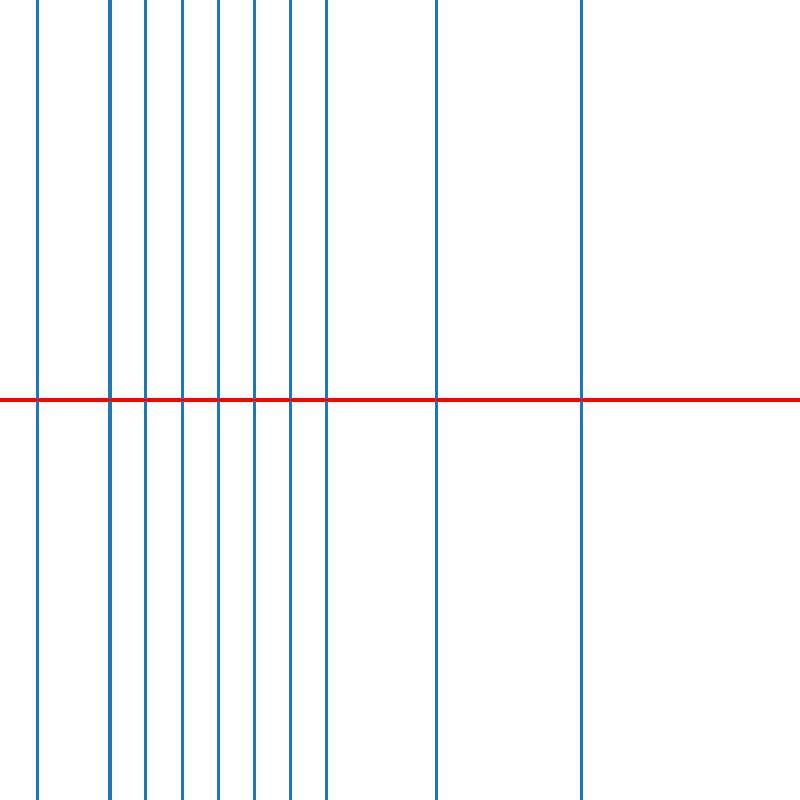root: (32, 396, 40, 404), (250, 396, 258, 404), (432, 396, 440, 404), (141, 396, 149, 404), (105, 396, 112, 404), (214, 396, 221, 404), (287, 396, 294, 404), (178, 396, 185, 404), (578, 396, 585, 404), (323, 396, 330, 404)
